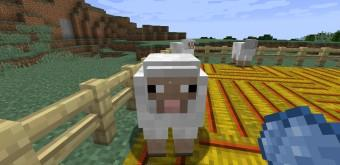sheep: (133, 52, 208, 158)
